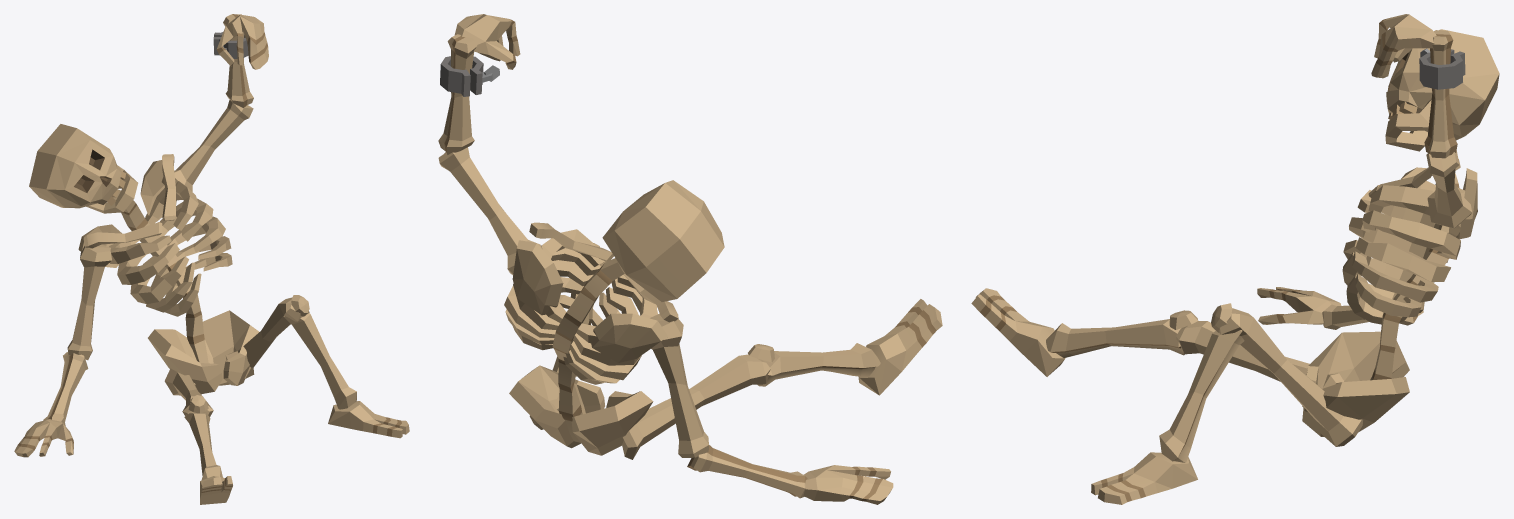
File: SM_Prop_Skeleton_Shackle_01.glb
3 renders of one model, left to right at view 1: azimuth 30°, elevation 25°; view 2: azimuth 150°, elevation 25°; view 3: azimuth 270°, elevation 25°, orthographic. The views are drawn at different scales.
Parts seen in each view (by area): view 1: SM_Prop_Skeleton_Shackle_01; view 2: SM_Prop_Skeleton_Shackle_01; view 3: SM_Prop_Skeleton_Shackle_01.
Part boxes in pixels (x1,y1,x2,y2): SM_Prop_Skeleton_Shackle_01: [14, 14, 409, 504]; SM_Prop_Skeleton_Shackle_01: [438, 14, 942, 504]; SM_Prop_Skeleton_Shackle_01: [971, 14, 1499, 504].
Bounding box in the file's own units: 0.0118 × 0.0121 × 0.0125.
Materials: 1 (1 with a texture image).
